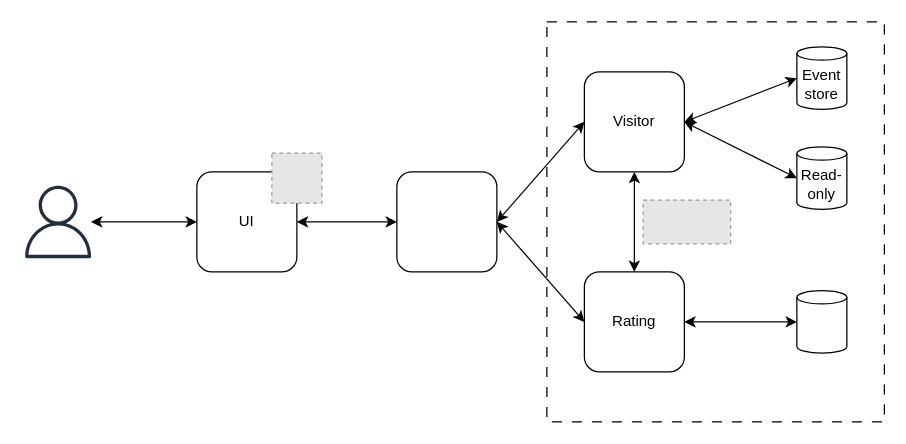
Image size: 906x444. Some labels were removed from this diagram. Grey dashed boxes stand in for pictures. The centre of each missing label's shape, as x and y in pixels:
API Gateway: (x=446, y=221)
DB: (x=821, y=321)
